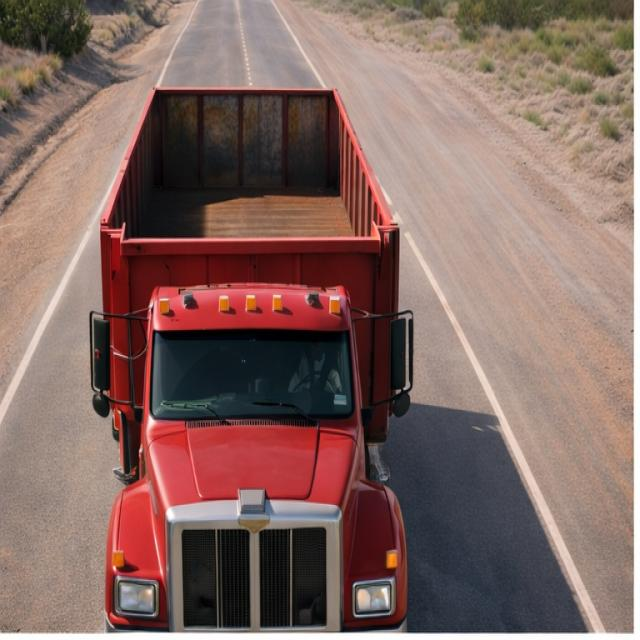Box: (111, 54, 402, 264)
Truck: (72, 19, 428, 628)
